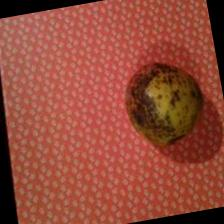Mango Rotten: (120, 57, 203, 148)
